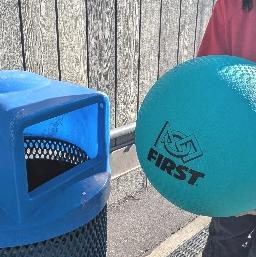algae: (134, 53, 256, 209)
